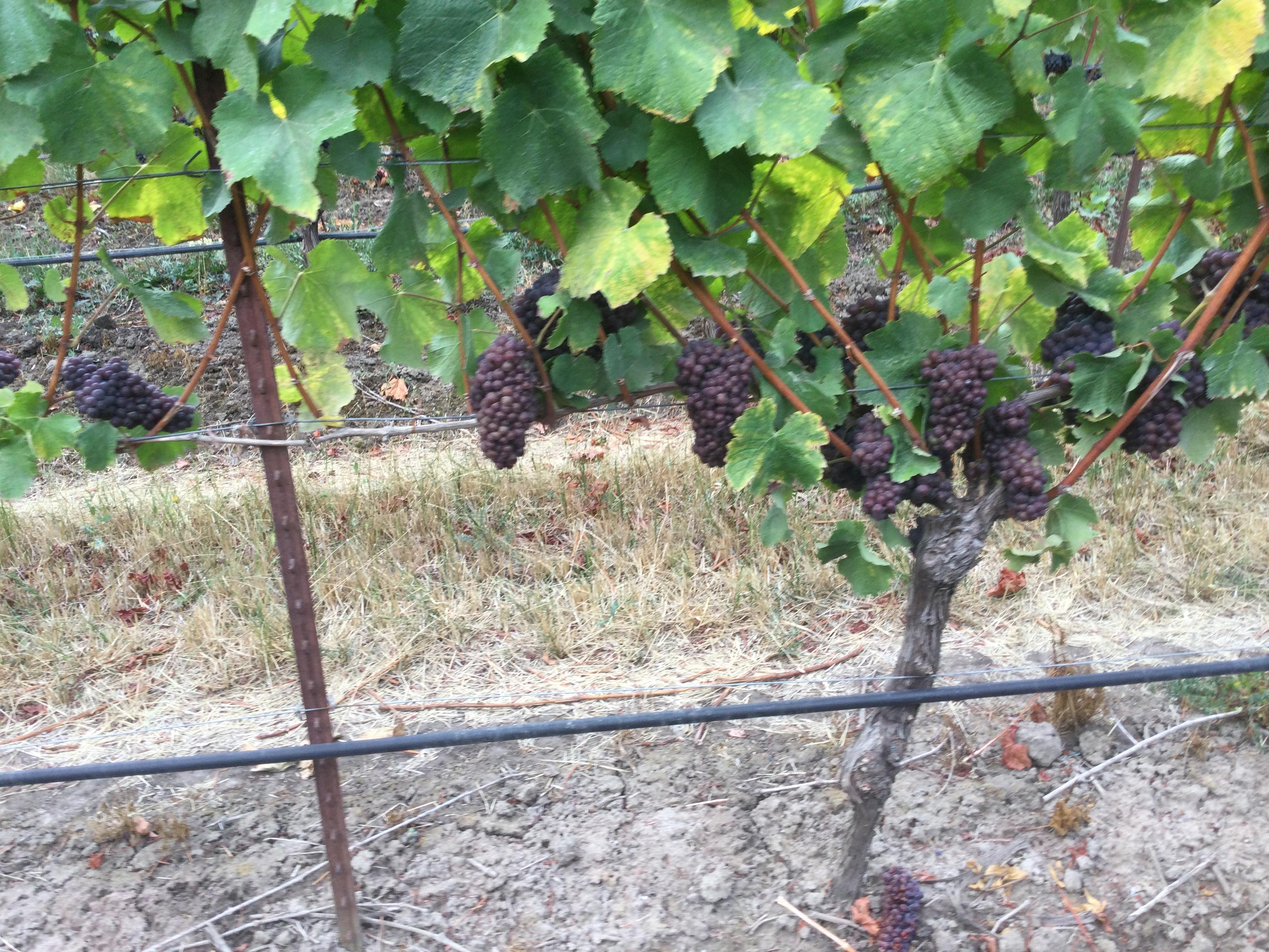leaf: (842, 0, 1013, 192), (213, 65, 355, 218), (8, 35, 173, 163), (480, 46, 607, 205), (693, 31, 834, 156), (592, 0, 737, 120), (397, 0, 551, 110), (560, 178, 672, 306), (1132, 0, 1265, 105), (263, 241, 381, 350), (101, 123, 207, 244), (647, 118, 752, 228), (98, 249, 208, 343), (756, 154, 849, 258), (726, 399, 827, 492), (1047, 68, 1140, 169), (364, 268, 452, 368), (979, 254, 1054, 355), (865, 312, 941, 411), (944, 153, 1031, 239), (305, 9, 393, 89), (1022, 207, 1106, 288), (190, 0, 259, 94), (427, 307, 499, 392), (816, 519, 893, 596), (370, 188, 432, 273), (1070, 348, 1149, 414), (1202, 319, 1268, 398), (772, 361, 848, 425), (297, 348, 356, 430), (802, 7, 865, 83), (668, 217, 747, 275), (1140, 97, 1216, 156), (0, 0, 57, 76), (466, 218, 520, 294), (1044, 493, 1098, 568), (1178, 399, 1241, 462), (603, 326, 665, 389), (816, 115, 872, 183), (0, 81, 43, 169), (540, 291, 601, 352), (1114, 283, 1176, 343), (598, 103, 652, 170), (642, 273, 703, 330), (1130, 191, 1179, 260), (886, 420, 940, 482), (1160, 216, 1216, 272), (13, 413, 80, 459), (326, 130, 382, 180), (1079, 265, 1132, 312), (1174, 154, 1224, 202), (0, 434, 37, 498), (429, 218, 457, 301), (151, 9, 194, 63), (0, 149, 44, 200), (75, 420, 119, 471), (1027, 410, 1066, 466), (243, 0, 293, 42), (926, 275, 970, 321), (549, 353, 598, 394), (132, 440, 196, 470), (518, 205, 558, 250), (542, 196, 577, 247), (7, 381, 47, 425), (759, 493, 791, 546), (766, 317, 800, 366), (549, 0, 595, 35), (42, 195, 75, 242), (759, 378, 794, 417), (0, 263, 28, 311), (874, 518, 912, 550), (461, 256, 486, 301), (855, 371, 886, 405), (275, 364, 302, 402), (40, 268, 68, 303), (305, 0, 360, 17), (652, 321, 670, 340), (257, 0, 263, 9), (156, 19, 161, 25), (255, 24, 260, 29), (217, 120, 219, 127), (219, 140, 222, 144), (268, 33, 272, 35), (274, 30, 276, 32), (275, 27, 276, 30), (0, 34, 2, 35), (781, 487, 783, 488), (72, 199, 73, 200), (270, 34, 271, 35), (262, 37, 262, 38), (0, 127, 2, 127), (1028, 196, 1028, 197)
